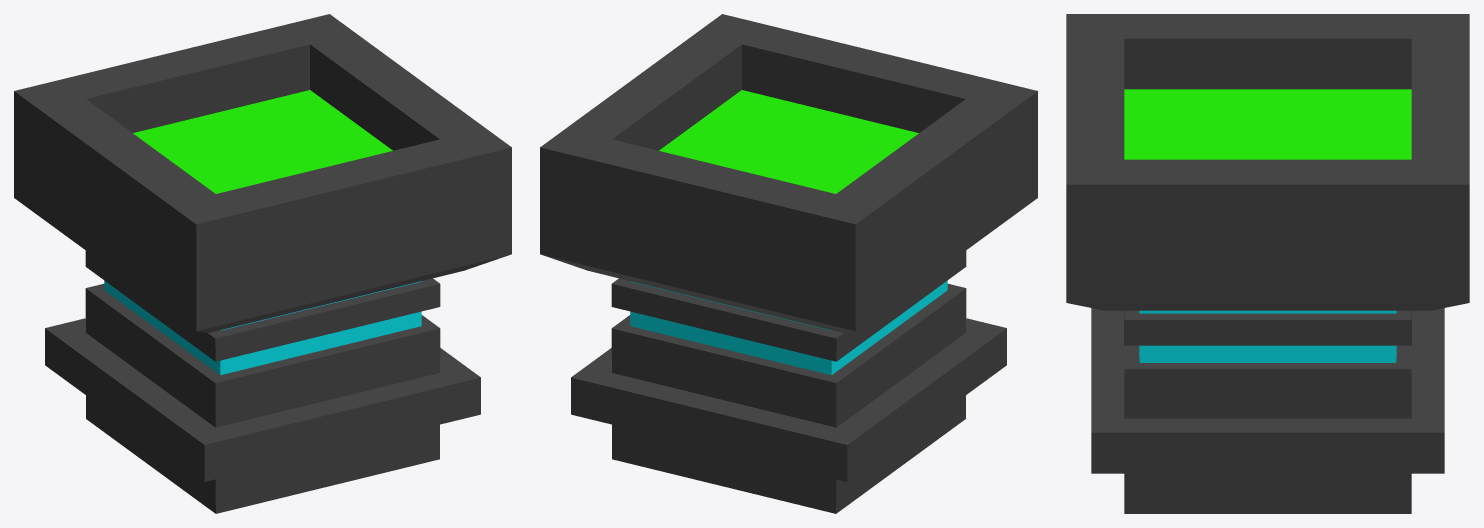
File: Bridge O.fbx
3 renders of one model, left to right at view 1: azimuth 30°, elevation 25°; view 2: azimuth 150°, elevation 25°; view 3: azimuth 270°, elevation 25°, orthographic. The views are drawn at different scales.
Parts seen in each view (by area): view 1: Bridge O; view 2: Bridge O; view 3: Bridge O.
Boxes of the visible parts, left/top/right/bottom form: Bridge O: left=14, top=14, right=511, bottom=513; Bridge O: left=540, top=14, right=1037, bottom=513; Bridge O: left=1066, top=14, right=1469, bottom=513.
Bounding box in the file's own units: 150 × 145 × 150.
